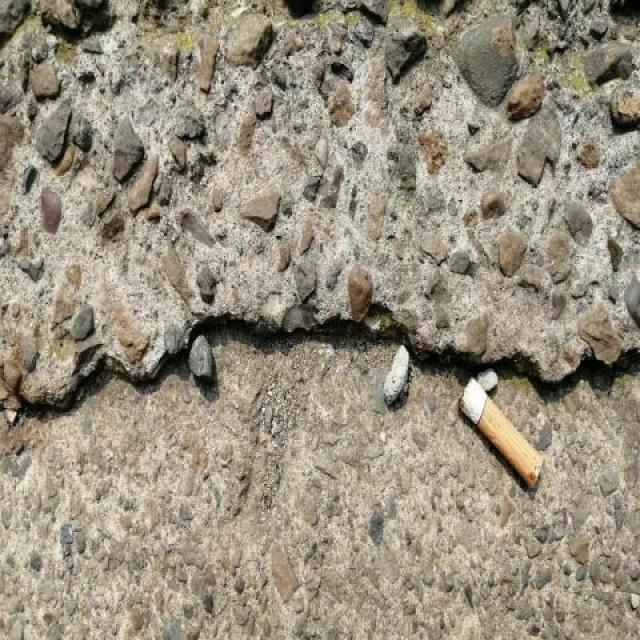non-organic waste: (448, 374, 548, 494)
